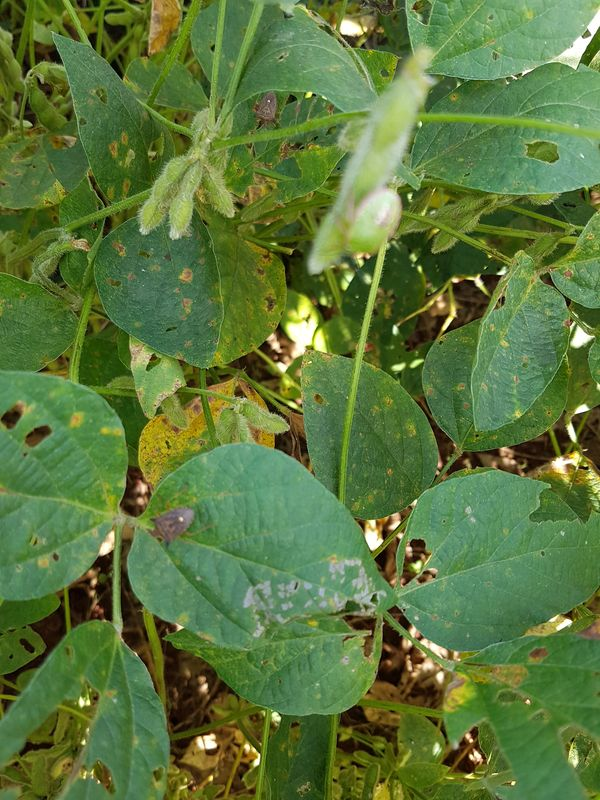Euschistus_heros_adulto: (145, 498, 202, 550), (249, 87, 287, 129)
Nezara_viridula_ninfa: (330, 178, 412, 269)
